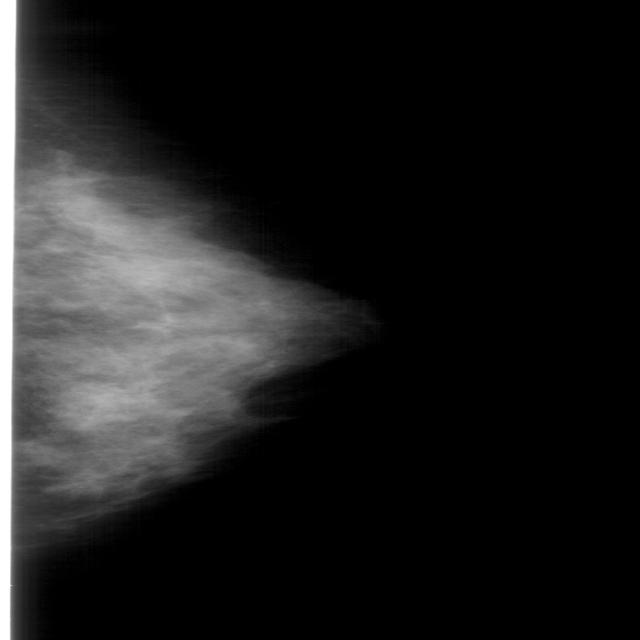normal: (0, 52, 419, 570)
